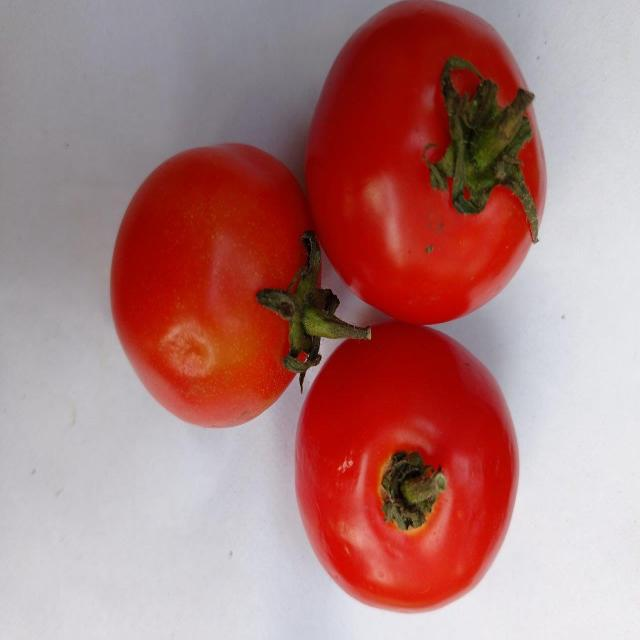Ripe: (301, 0, 550, 321), (292, 321, 524, 615), (108, 138, 318, 430)
